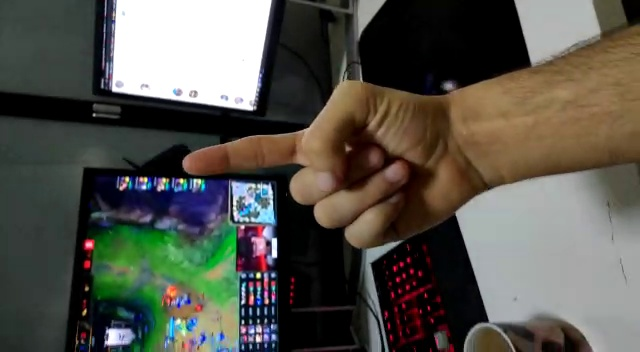One: (172, 75, 455, 241)
